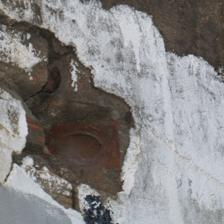Crack: (30, 70, 74, 210), (0, 53, 59, 131), (54, 0, 88, 89)
